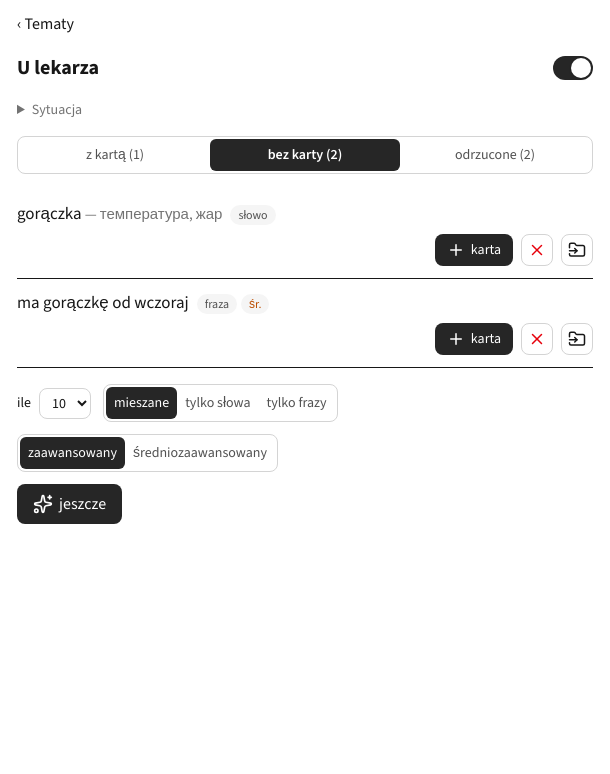
TopicPage › shows the server’s message when a hand-added item is a duplicate
The width and height of the screenshot is (610, 774).
Click the button "z kartą (1)".
click(115, 155)  # box [20,139,210,171]
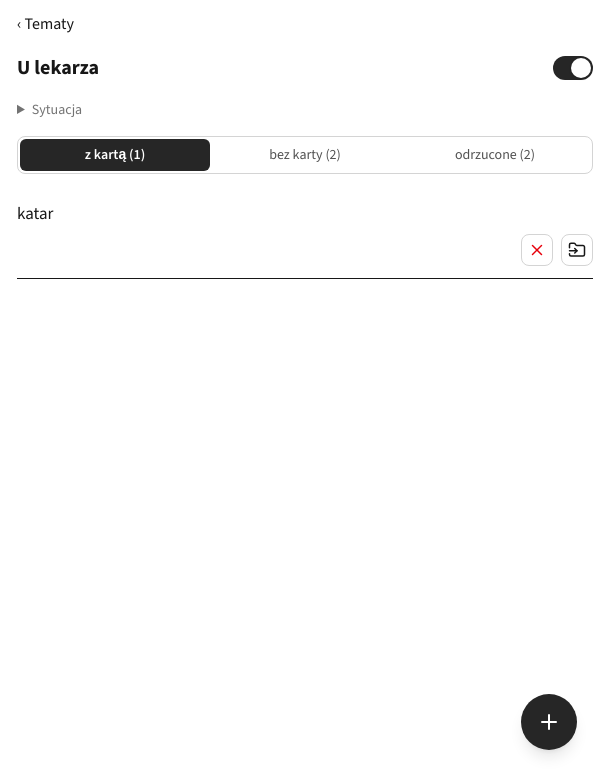
Click the button named "dodaj słowo lub frazę".
click(549, 722)  # box [521,694,577,750]
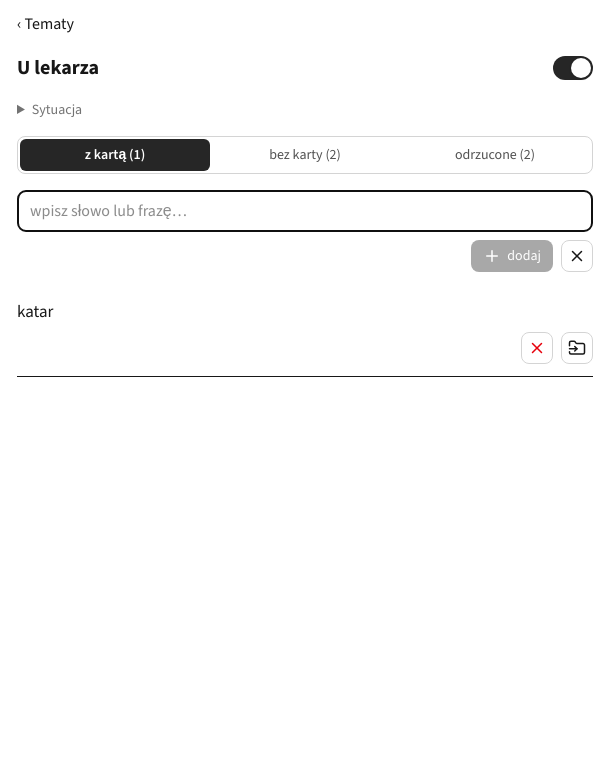
Type "katar" into the field named "dodaj słowo lub frazę".
click(305, 211); type("katar")  # box [17,190,593,232]
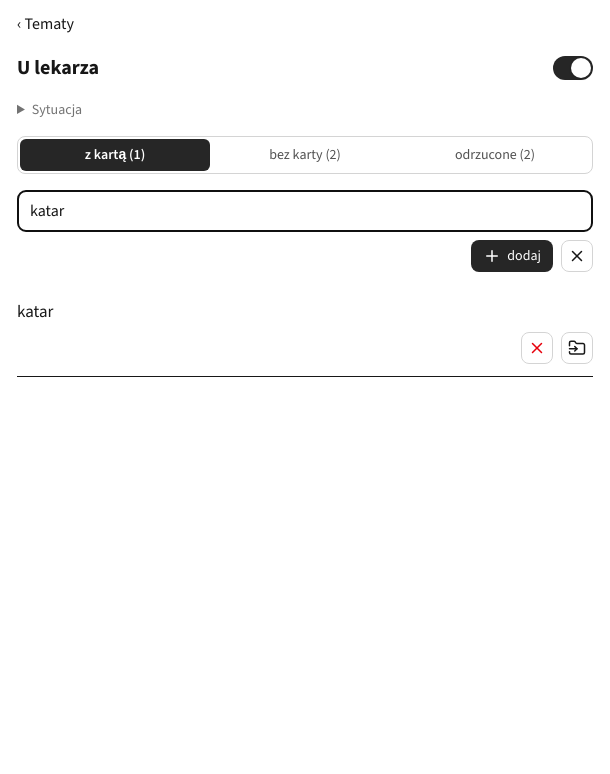
Click the button "dodaj".
click(512, 256)  # box [471,240,553,272]
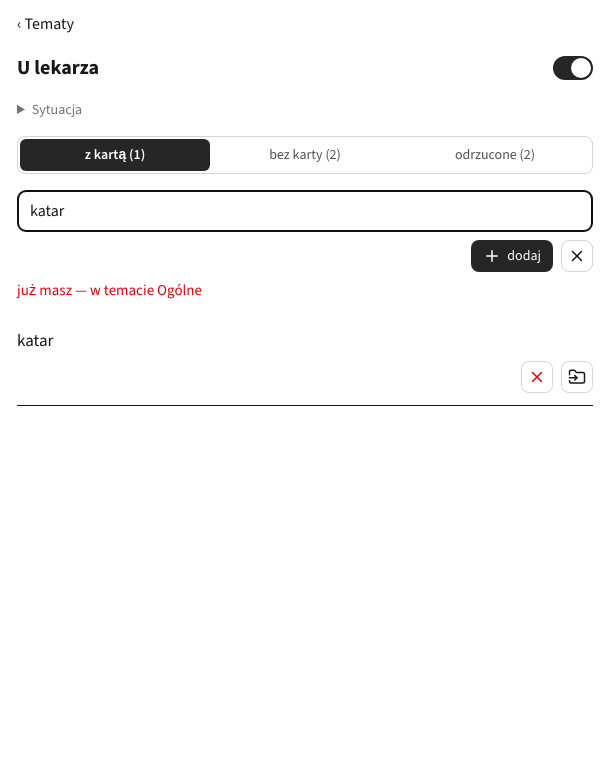
Now the text "już masz — w temacie Ogólne" is shown, box [17,280,202,300]
